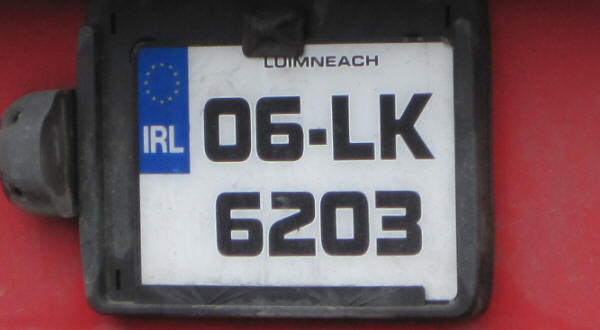license_plate: (132, 39, 462, 303)
